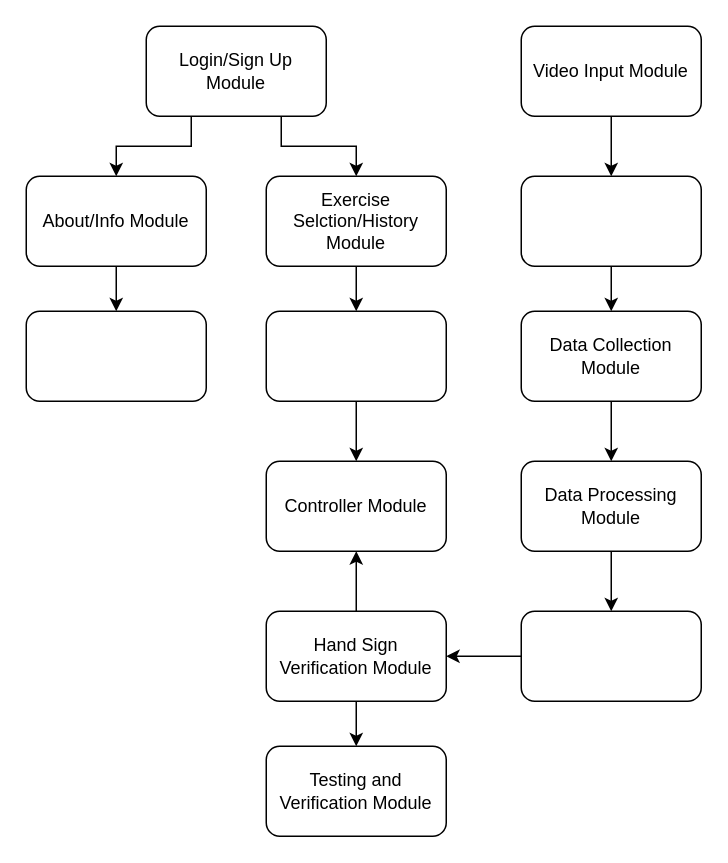
Some shapes in this 728 by 863 pixel diagram are drawn without their labels. Each missing label, with the centre of its shape:
"Account Management Module" belongs at point (115, 355).
"Exercise Module" belongs at point (355, 355).
"Hand Sign Recognition Module" belongs at point (610, 220).
"Machine Learning Module" belongs at point (610, 655).
